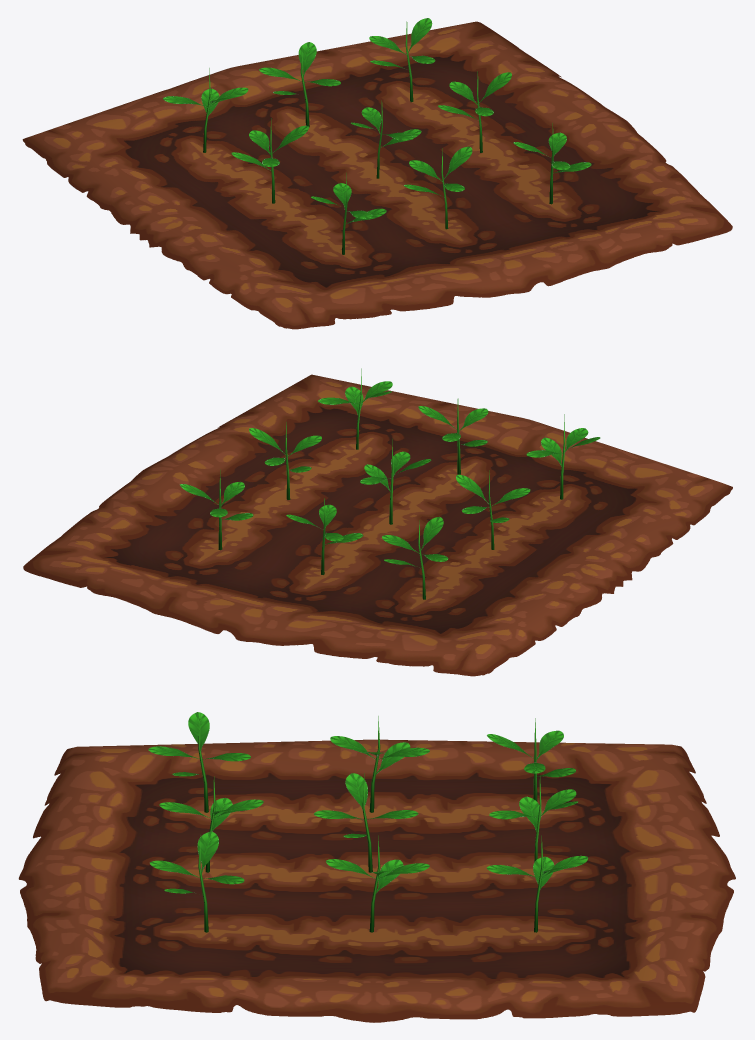
File: SunFlower_Field_Lv1.FBX
3 renders of one model, top to bottom at view 1: azimuth 30°, elevation 25°; view 2: azimuth 150°, elevation 25°; view 3: azimuth 270°, elevation 25°, orthographic. The views are drawn at different scales.
Visible parts, largest first — view 1: SunFlower_Field_Lv1; view 2: SunFlower_Field_Lv1; view 3: SunFlower_Field_Lv1.
Part boxes in pixels (box(x1,y1,x2,y2)): SunFlower_Field_Lv1: box(22, 18, 732, 329); SunFlower_Field_Lv1: box(23, 368, 732, 676); SunFlower_Field_Lv1: box(18, 712, 735, 1022).
Bounding box in the file's own units: 274 × 48.52 × 296.
